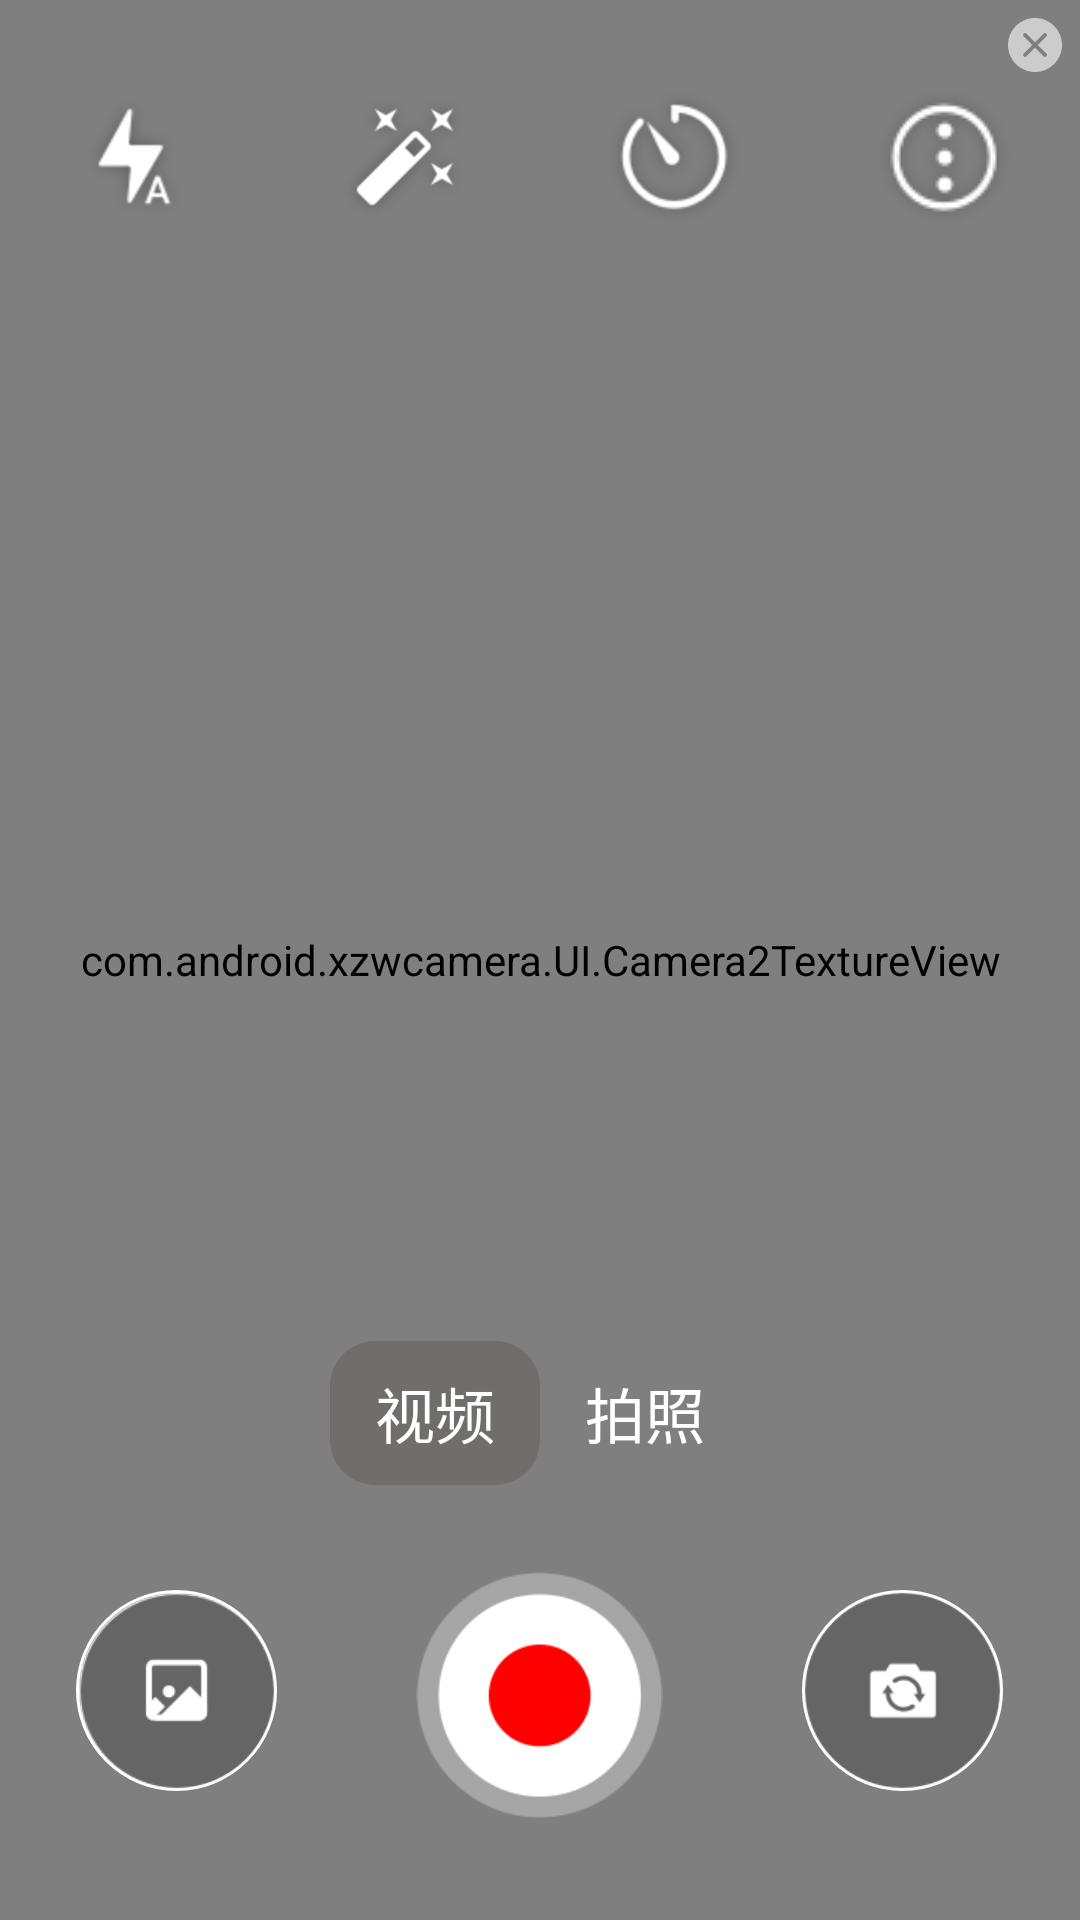

Icon click points for this 1080px×1920px phone screenshot, format [x,y]:
close: [1035,45]
countdown: [674,156]
front back switcher: [902,1690]
photograph album: [176,1690]
quick settings: [944,157]
滤镜: [405,157]
闪光灯: [134,156]
